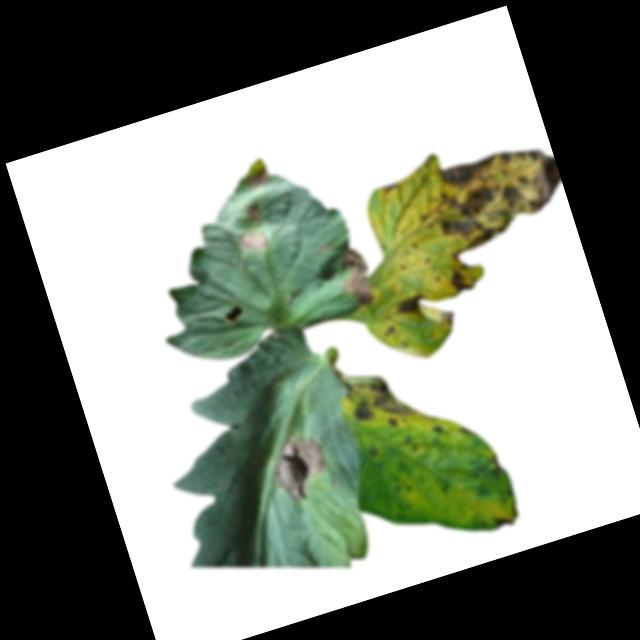Early_blight: (424, 136, 573, 259), (339, 361, 423, 442), (263, 422, 337, 508), (332, 243, 380, 312), (392, 291, 432, 320), (236, 226, 269, 256), (445, 267, 477, 297), (245, 165, 273, 193), (243, 201, 263, 224), (365, 442, 383, 464), (379, 324, 401, 342), (493, 515, 514, 531), (430, 422, 448, 440), (381, 181, 401, 195)
